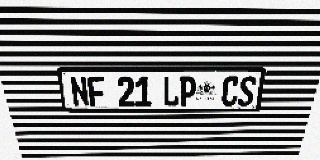1: (134, 76, 151, 106)
2: (117, 76, 135, 106)
C: (220, 76, 240, 106)
F: (87, 76, 106, 107)
L: (163, 76, 180, 106)
N: (69, 76, 90, 107)
P: (179, 76, 197, 106)
S: (237, 76, 257, 106)
